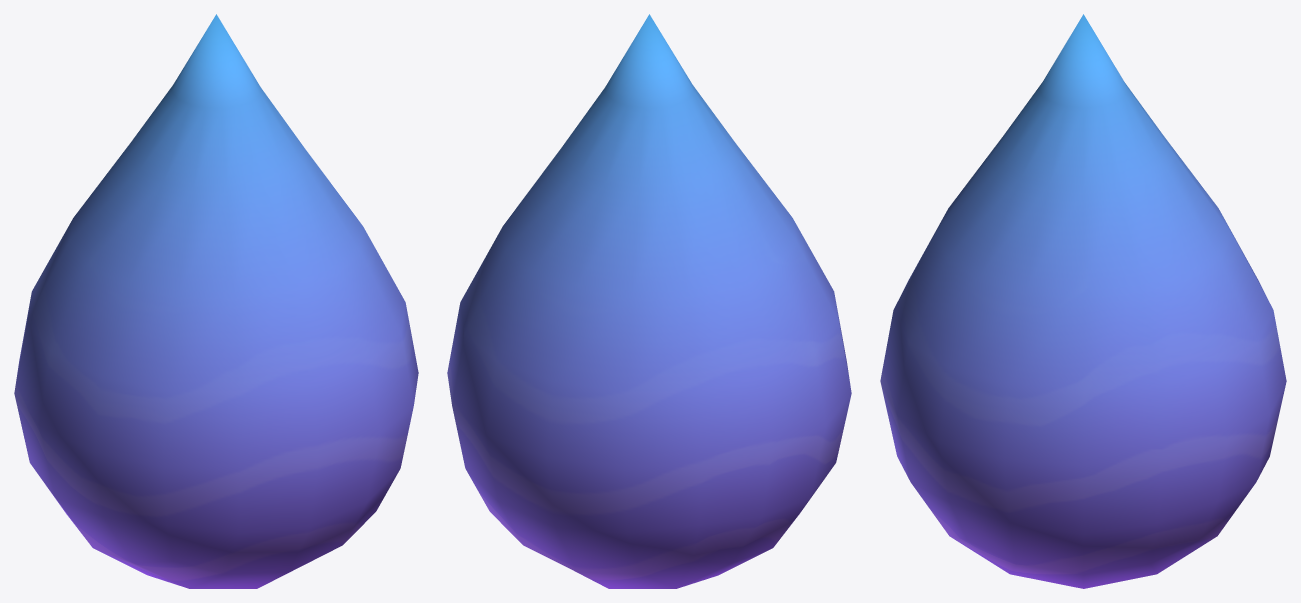
File: Moisture.fbx
The picture shows the model from 3 angles, left to right: view 1: azimuth 30°, elevation 25°; view 2: azimuth 150°, elevation 25°; view 3: azimuth 270°, elevation 25°; orthographic projection.
Visible parts, largest first — view 1: Moisture; view 2: Moisture; view 3: Moisture.
Part boxes in pixels (x1,y1,x2,y2): Moisture: (14,14,418,588); Moisture: (447,14,851,588); Moisture: (880,14,1286,588).
Size of the model in its own units: 171 by 260 by 171.
Materials: 1 (1 with a texture image).
